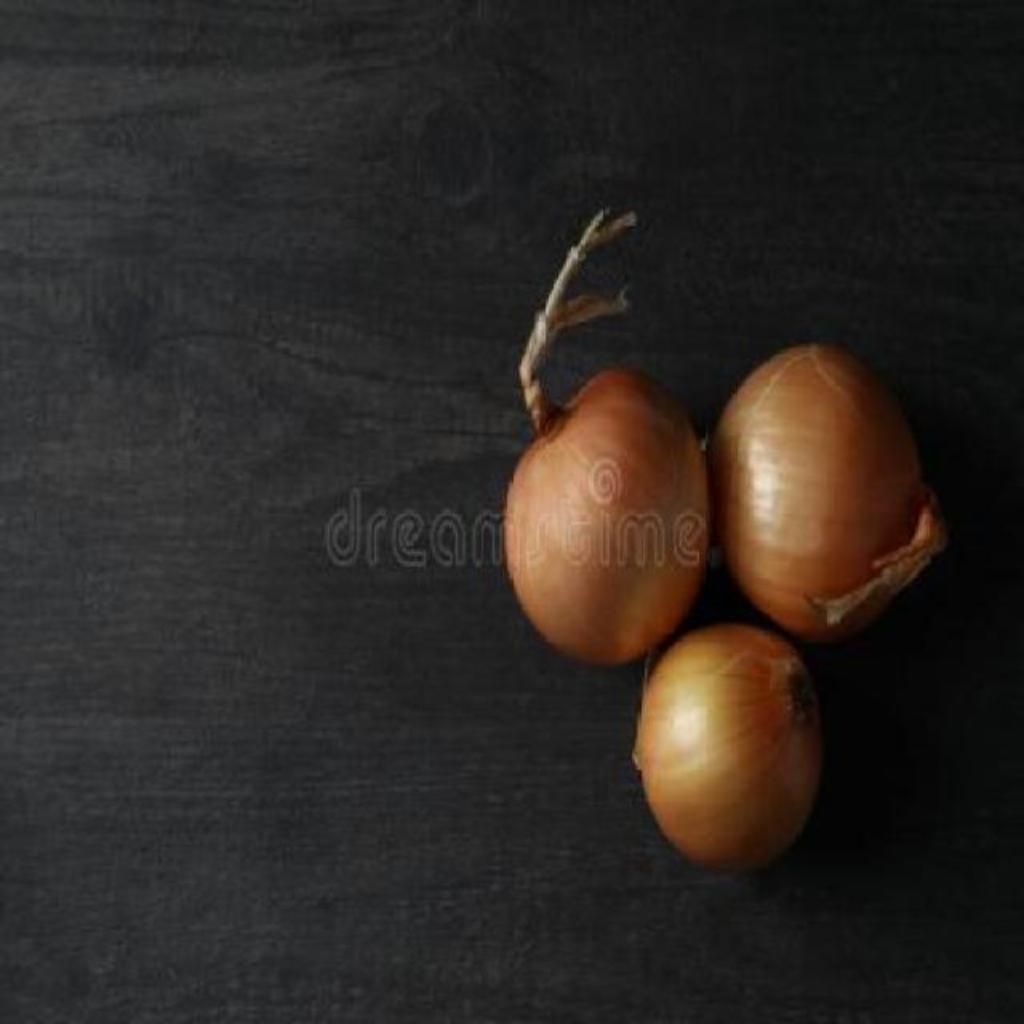Onion: (715, 346, 949, 646), (502, 370, 714, 669), (632, 622, 829, 875)
